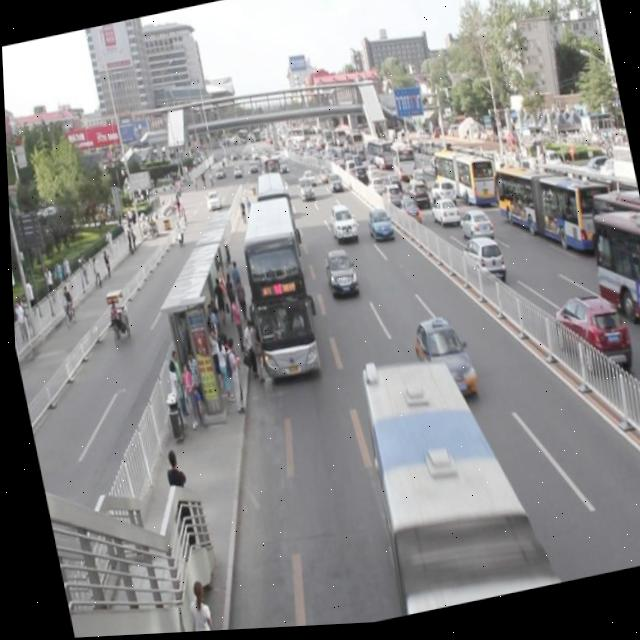car: (317, 247, 356, 301), (326, 205, 356, 245), (362, 208, 391, 245), (293, 178, 311, 205), (325, 175, 341, 194), (314, 169, 327, 186)
van: (347, 338, 552, 618), (228, 192, 318, 386), (251, 170, 299, 263)
